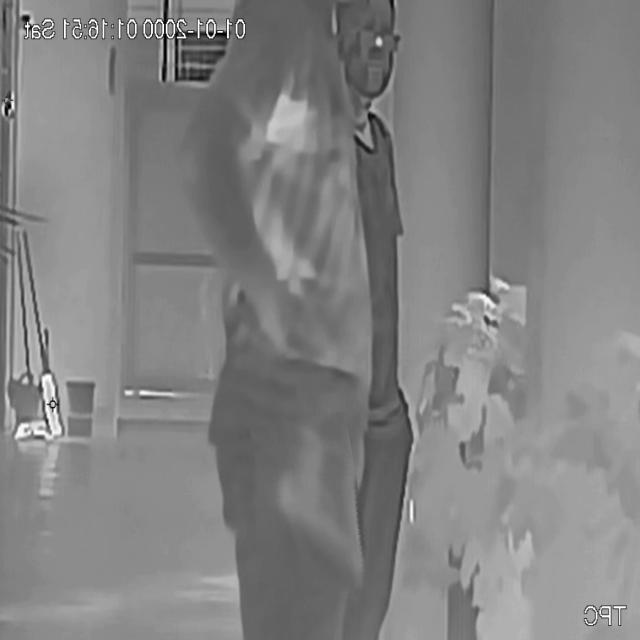Weapon: (257, 415, 368, 599)
